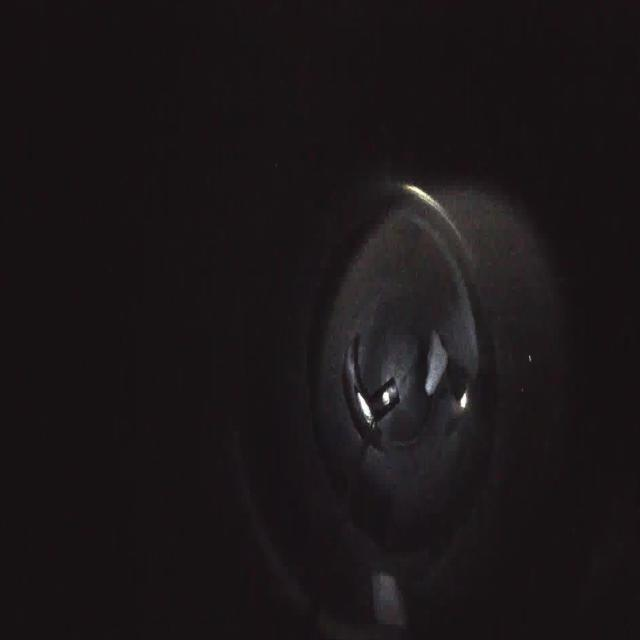impurity: (418, 324, 452, 398)
